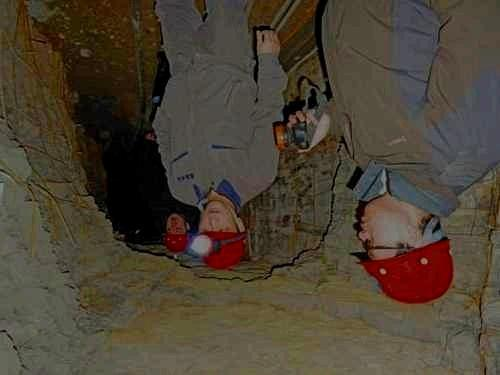helmet: (354, 196, 455, 306), (194, 199, 250, 271), (163, 213, 191, 253)
